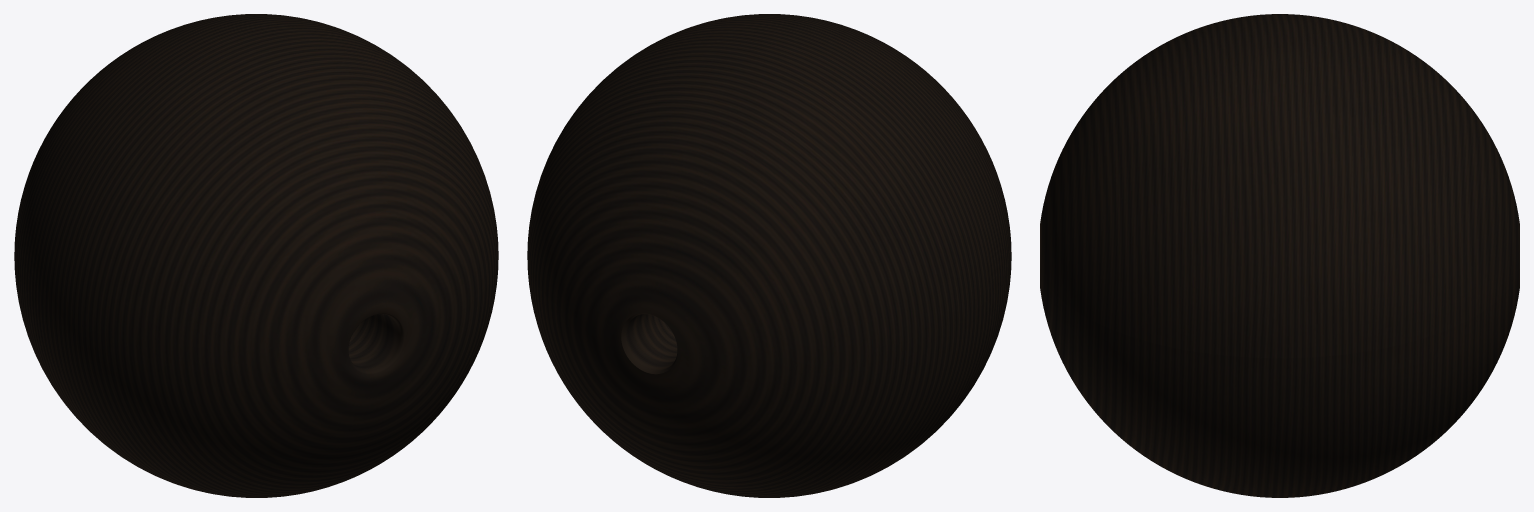
File: karungali.glb
3 renders of one model, left to right at view 1: azimuth 30°, elevation 25°; view 2: azimuth 150°, elevation 25°; view 3: azimuth 270°, elevation 25°, orthographic.
Parts seen in each view (by area): view 1: karungali.001; view 2: karungali.001; view 3: karungali.001.
Boxes of the visible parts, <box> form: karungali.001: <box>14,14,498,497</box>; karungali.001: <box>527,14,1011,497</box>; karungali.001: <box>1040,14,1519,497</box>.
Size of the model in its own units: 0.008 by 0.008 by 0.00793.
Materials: 1 (1 with a texture image).
